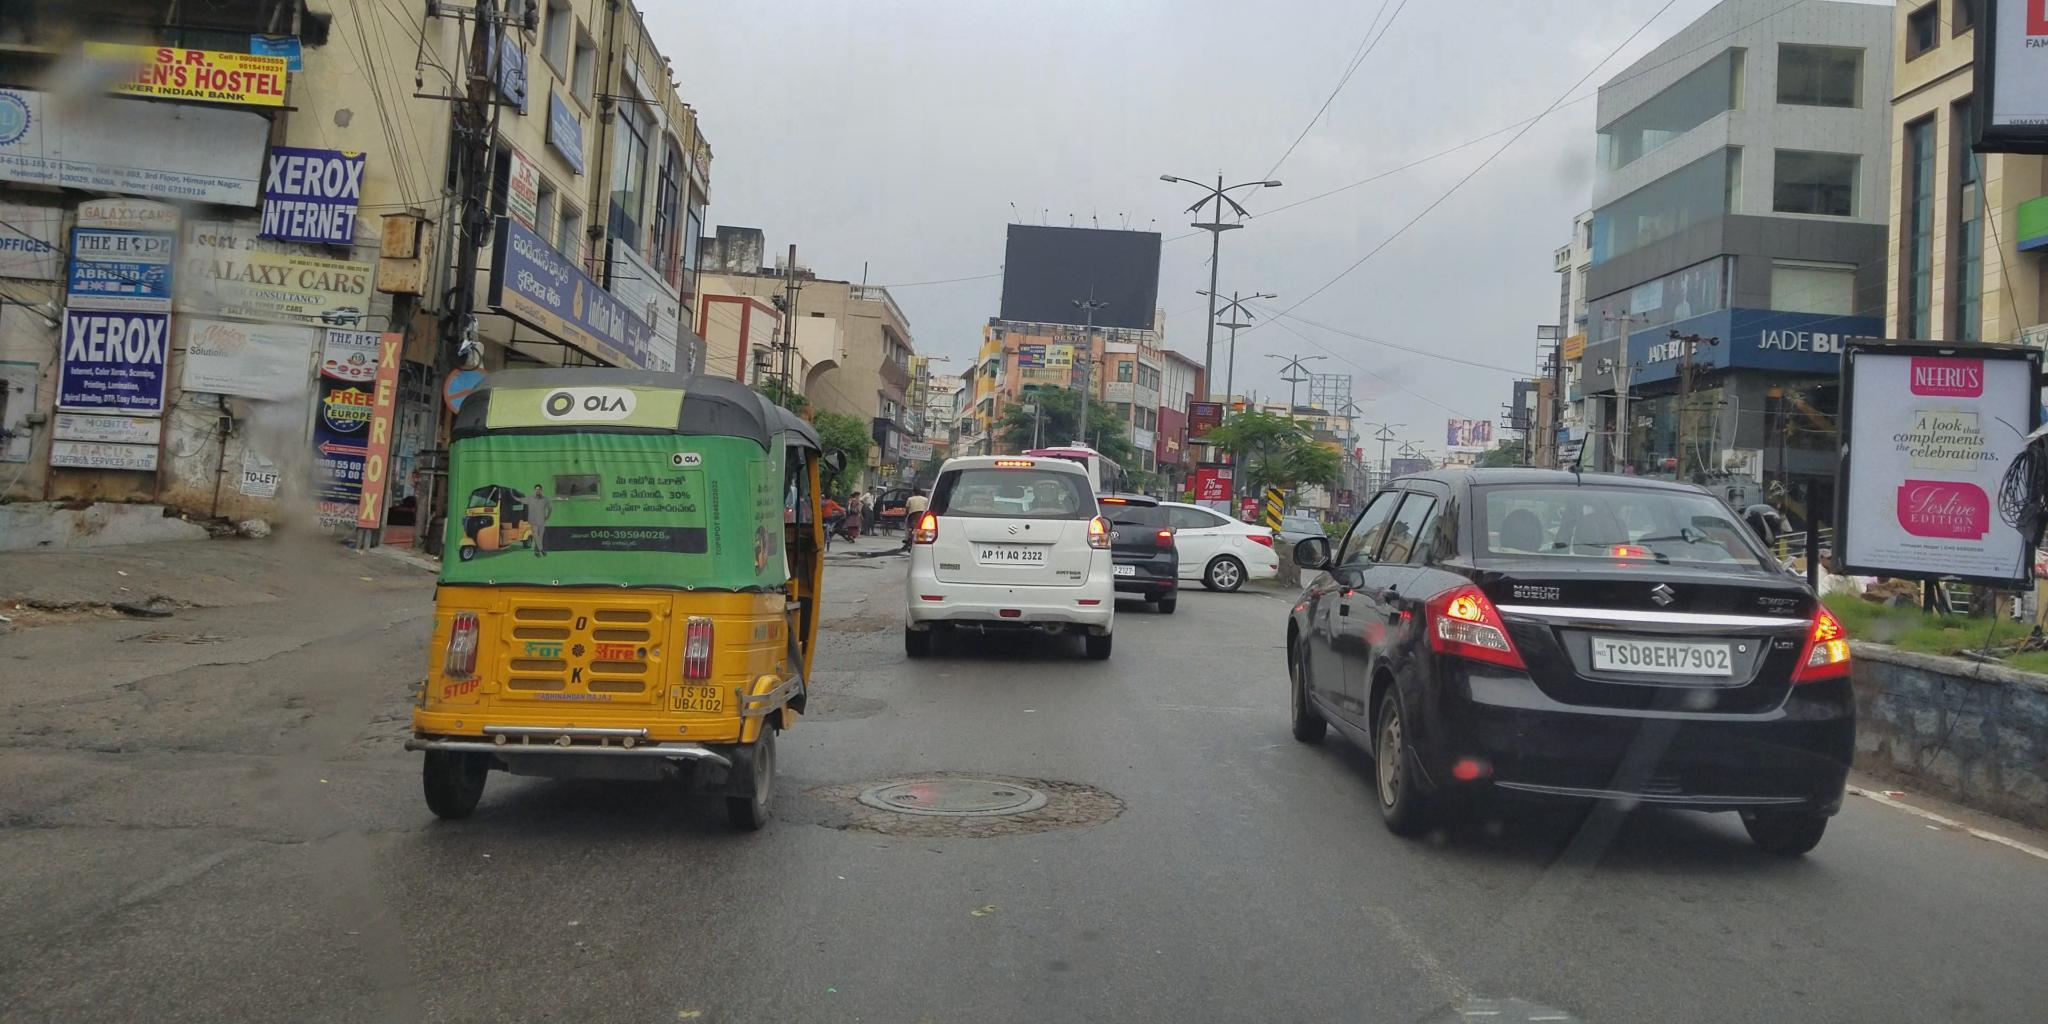off: (0, 0, 1957, 1007)
